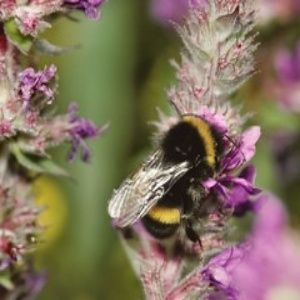bee: (114, 110, 228, 248)
